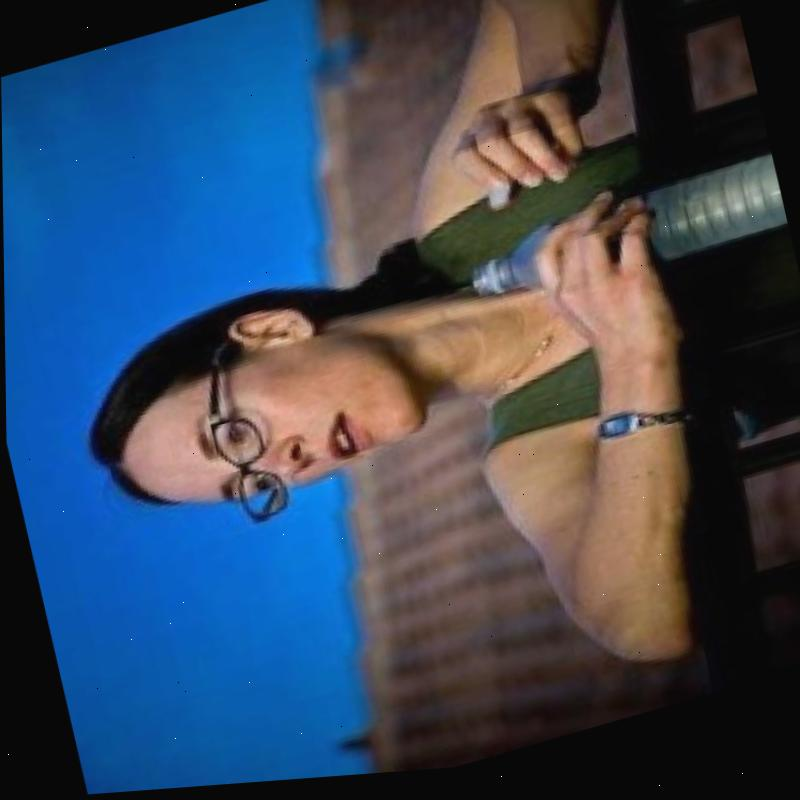botella: (463, 170, 789, 324)
